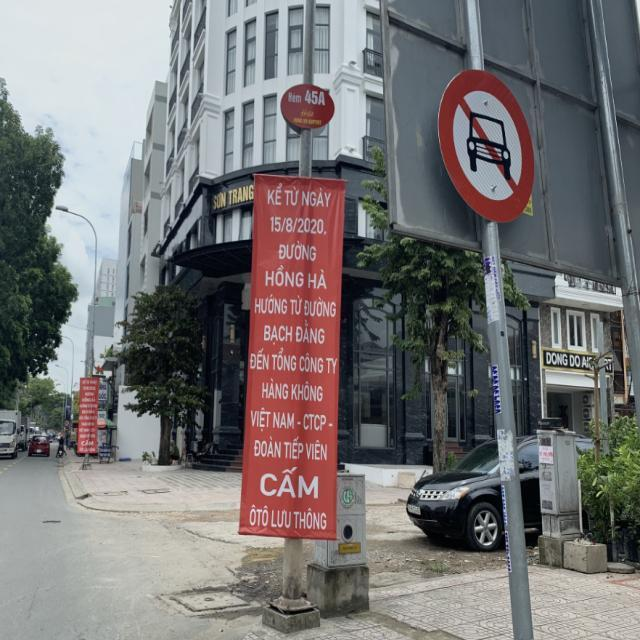103a-cam-oto: (438, 69, 534, 223)
